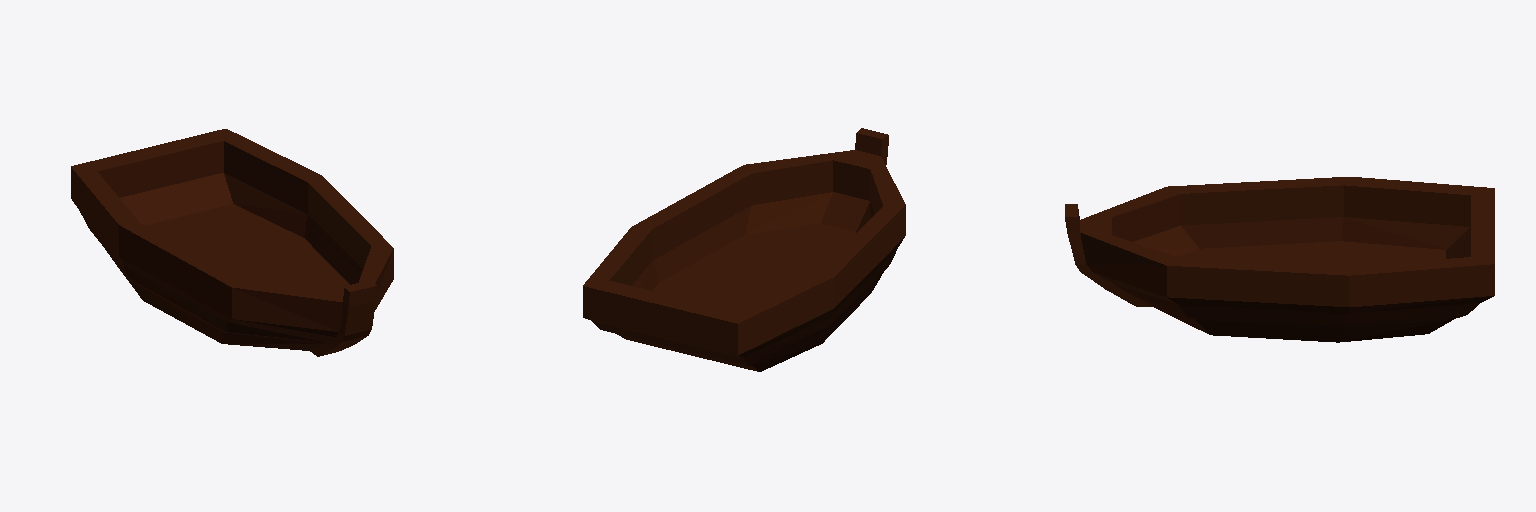
File: Boat.obj
3 renders of one model, left to right at view 1: azimuth 30°, elevation 25°; view 2: azimuth 150°, elevation 25°; view 3: azimuth 270°, elevation 25°, orthographic.
Visible parts, largest first — view 1: Boat_Cube; view 2: Boat_Cube; view 3: Boat_Cube.
Part boxes in pixels (x1,y1,x2,y2): Boat_Cube: (71,129,393,356); Boat_Cube: (583,128,905,371); Boat_Cube: (1065,177,1494,342).
Bounding box in the file's own units: 387 × 167 × 709.